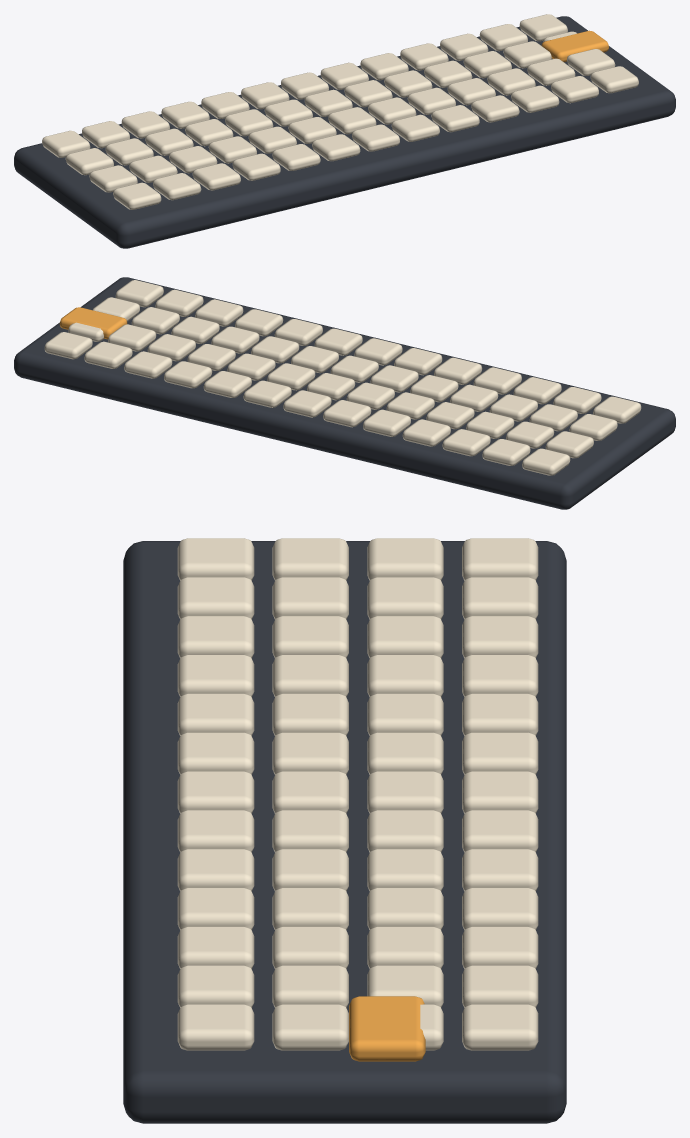
Rendered from keyboard.glb.
The picture shows the model from 3 angles, top to bottom: view 1: azimuth 30°, elevation 25°; view 2: azimuth 150°, elevation 25°; view 3: azimuth 270°, elevation 25°; orthographic projection. The views are drawn at different scales.
Parts seen in each view (by area): view 1: KeyboardKeys, KeyboardBase, KeyboardEnter; view 2: KeyboardKeys, KeyboardBase, KeyboardEnter; view 3: KeyboardKeys, KeyboardBase, KeyboardEnter.
Boxes of the visible parts, box(x1,y1,x2,y2) form: KeyboardKeys: box(42, 14, 638, 209); KeyboardBase: box(14, 16, 675, 248); KeyboardEnter: box(541, 30, 608, 62); KeyboardKeys: box(44, 280, 641, 475); KeyboardBase: box(14, 277, 675, 509); KeyboardEnter: box(59, 307, 127, 339); KeyboardKeys: box(177, 538, 538, 1050); KeyboardBase: box(123, 541, 566, 1123); KeyboardEnter: box(349, 996, 425, 1061).
Bounding box in the file's own units: 0.32 × 0.0205 × 0.11.
